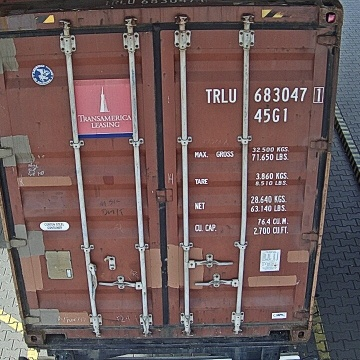serial_id: (205, 87, 323, 102)
